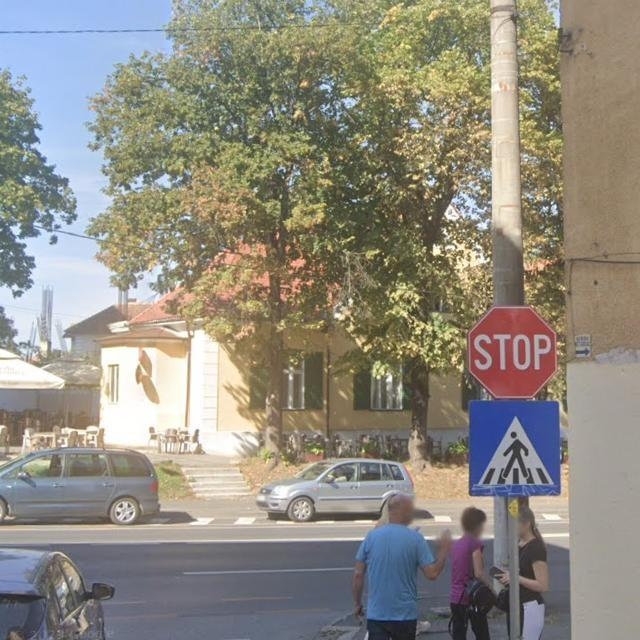info_crosswalk: (469, 400, 560, 498)
prio_stop: (468, 307, 558, 399)
